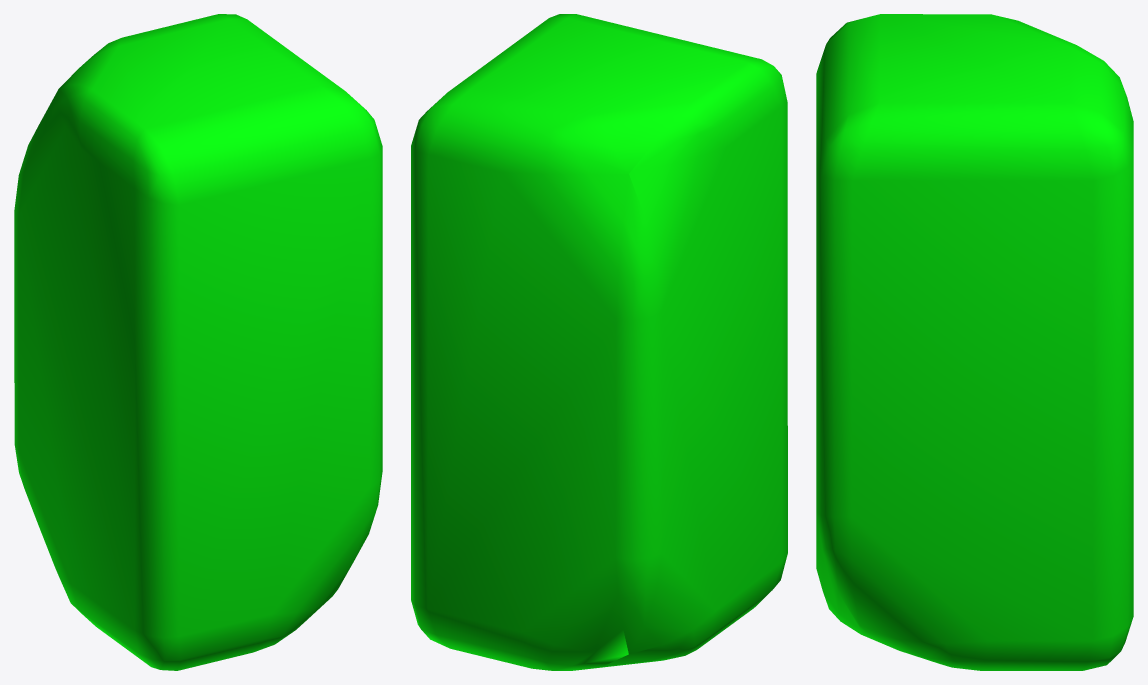
Rendered from Green_Crystal_04.fbx.
3 renders of one model, left to right at view 1: azimuth 30°, elevation 25°; view 2: azimuth 150°, elevation 25°; view 3: azimuth 270°, elevation 25°, orthographic. The views are drawn at different scales.
Visible parts, largest first — view 1: Green_Crystal_04; view 2: Green_Crystal_04; view 3: Green_Crystal_04.
Boxes of the visible parts, left/top/right/bottom form: Green_Crystal_04: left=14, top=14, right=382, bottom=670; Green_Crystal_04: left=411, top=14, right=787, bottom=670; Green_Crystal_04: left=816, top=14, right=1133, bottom=670.
Size of the model in its own units: 1.2 by 2.58 by 1.31.
